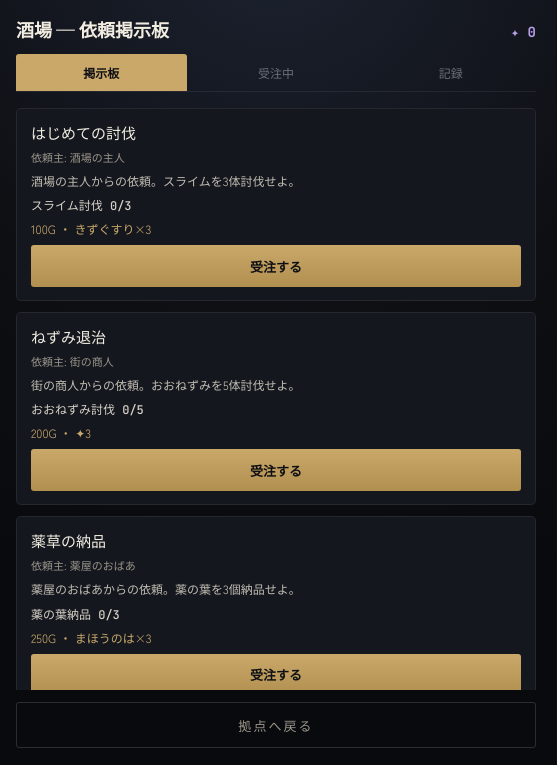
Test: TavernPage › 記録タブは完了済みの一回限り依頼とくり返し依頼の累計達成回数を表示する
The image size is (557, 765).
What coordinates should you click on to do the following:
click the button "記録"
I would click on:
 (451, 72)
Its box is [365,54,536,91].
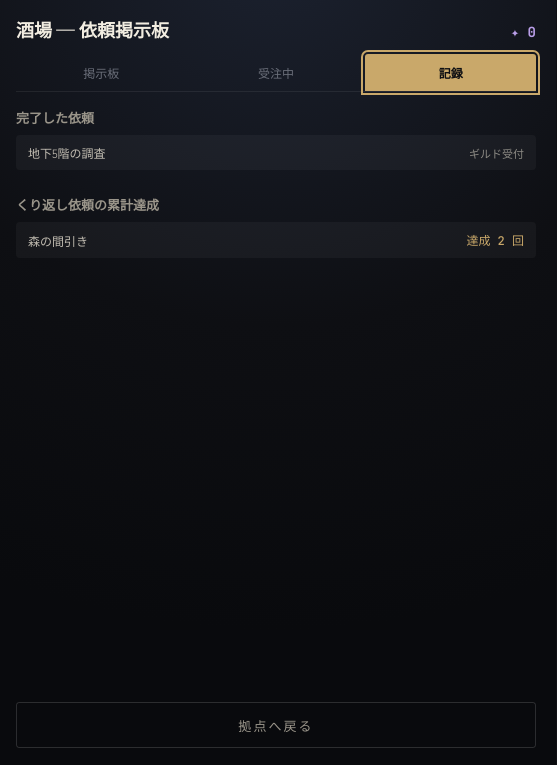
Check: the text "地下5階の調査" is shown, box [28,144,106,161]
Check: the text "森の間引き" is shown, box [28,232,88,248]
Check: the text "達成 2 回" is shown, box [466,231,524,249]
